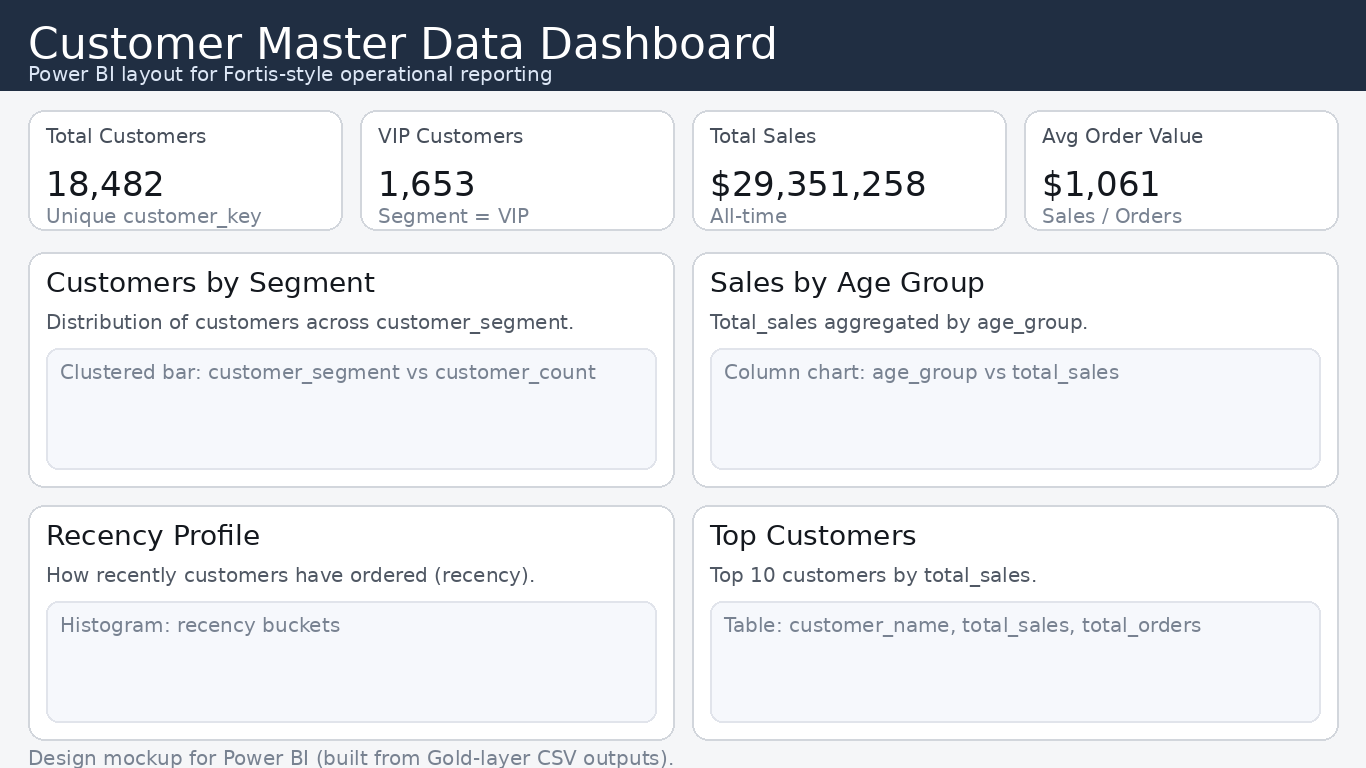

This screenshot's page, from the dashboard's own definition file:
{"tool":"powerbi","page":{"name":"Customer Master Data","canvas":[1280,720],"ordinal":0},"visuals":[{"type":"shape","box":[0,0,1280,100],"z":0},{"type":"card","title":"Total Customer","fields":{"Values":["report_customers.Total Customers"]},"box":[20,109.6,300,120],"z":1000},{"type":"card","title":"VIP Customers","fields":{"Values":["report_customers.VIP Customers"]},"box":[333.3,109.6,300,120],"z":2000},{"type":"card","title":"Avg Order Value","fields":{"Values":["report_customers.Avg Order Value"]},"box":[960,110,300,120],"z":3000},{"type":"card","title":"Total Sales","fields":{"Values":["report_customers.Total Sales"]},"box":[646.7,109.6,300,120],"z":4000},{"type":"textbox","box":[0,64.4,1280,34.4],"z":5000},{"type":"textbox","box":[0,10,1280,70],"z":6000},{"type":"slicer","title":"Customer Segment","fields":{"Values":["report_customers.customer_segment"]},"box":[1060,17,200,66],"z":7000},{"type":"clusteredColumnChart","title":"Customers by Segment","fields":{"Category":["report_customers.customer_segment"],"Y":["Count(report_customers.customer_key)"]},"box":[20,250,612,215],"z":8000},{"type":"clusteredColumnChart","title":"Sales by Age Group","fields":{"Category":["report_customers.age_group"],"Y":["Sum(report_customers.total_sales)"]},"box":[647,250,612.9,215],"z":9000},{"type":"clusteredColumnChart","title":"Customer Recency Profile","fields":{"Y":["Count(report_customers.customer_key)"],"Category":["report_customers.Recency Bucket"]},"box":[20,485,612.9,215],"z":10000},{"type":"tableEx","title":"Top Customers","fields":{"Values":["report_customers.customer_name","Sum(report_customers.total_sales)","Sum(report_customers.total_orders)"]},"box":[647.1,485,612.9,215],"z":11000}]}

Visuals, with their boxes in screenshot pixels (x1, y1, x2, y2), scaled from the page's 1280x720 canvas onto the 1366x768 screenshot:
shape: bbox=(0, 0, 1365, 107)
"Total Customer" card: bbox=(21, 117, 342, 245)
"VIP Customers" card: bbox=(356, 117, 676, 245)
"Avg Order Value" card: bbox=(1024, 117, 1345, 245)
"Total Sales" card: bbox=(690, 117, 1010, 245)
textbox: bbox=(0, 69, 1365, 105)
textbox: bbox=(0, 11, 1365, 85)
"Customer Segment" slicer: bbox=(1131, 18, 1345, 89)
"Customers by Segment" clusteredColumnChart: bbox=(21, 267, 674, 496)
"Sales by Age Group" clusteredColumnChart: bbox=(690, 267, 1345, 496)
"Customer Recency Profile" clusteredColumnChart: bbox=(21, 517, 675, 747)
"Top Customers" tableEx: bbox=(691, 517, 1345, 747)
